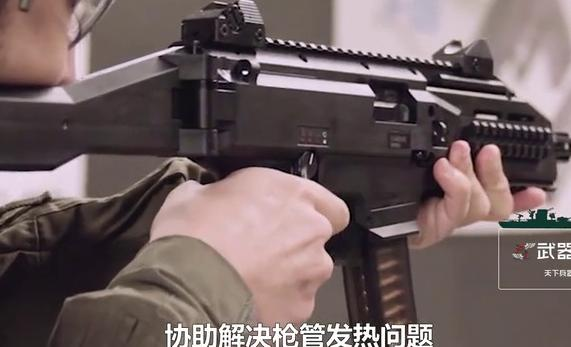gun: (1, 0, 571, 347)
